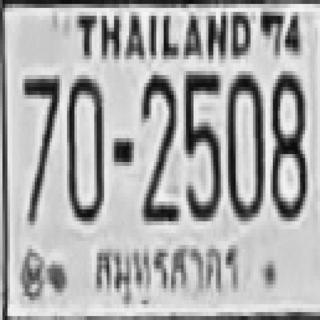N00: (67, 76, 104, 223), (226, 71, 263, 217)
N02: (141, 71, 176, 221)
N05: (183, 72, 220, 218)
N07: (21, 75, 58, 221)
N08: (269, 71, 304, 217)
P58: (91, 242, 244, 302)
